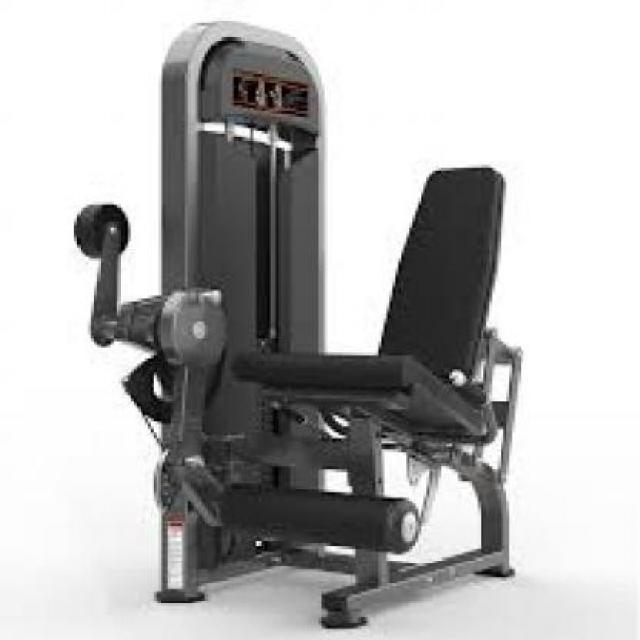leg extension: (60, 7, 546, 638)
